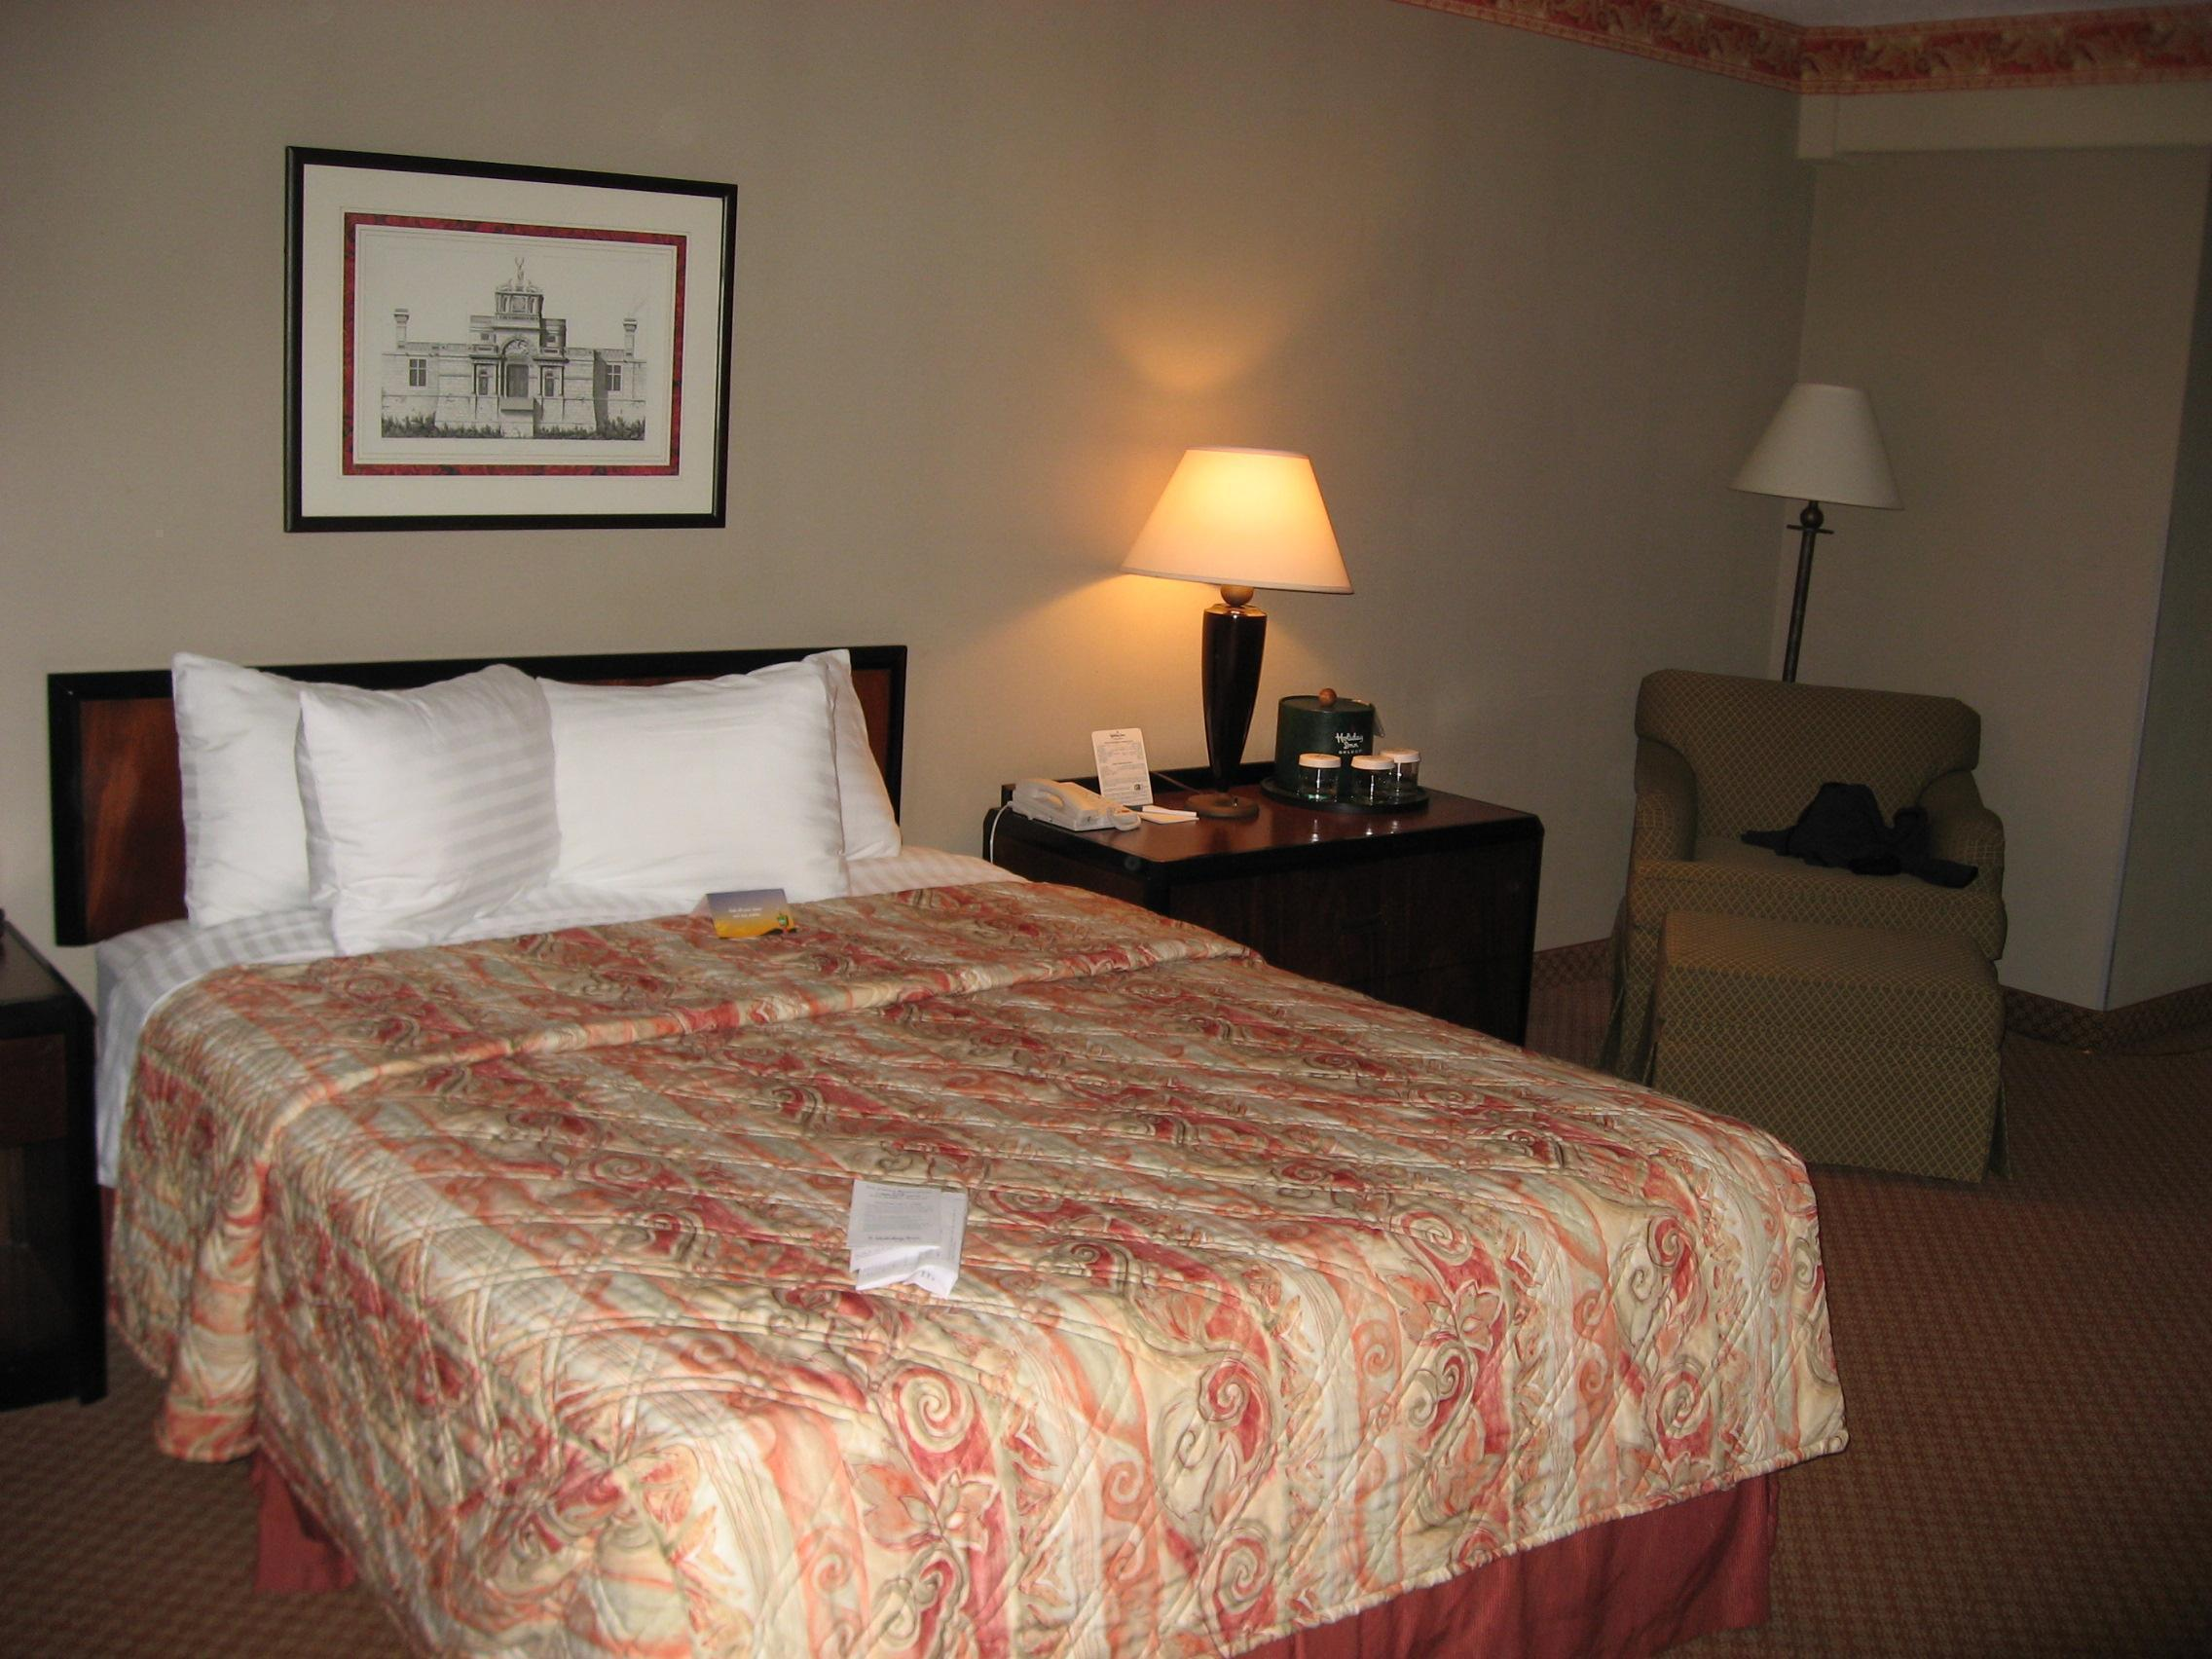Cama: (57, 660, 1876, 1645)
